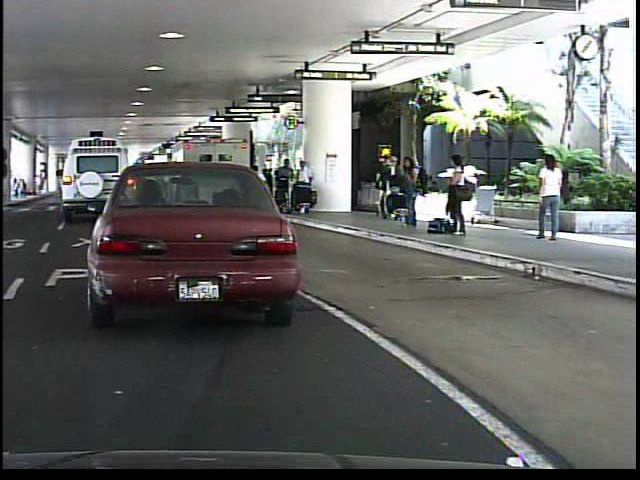person: (530, 154, 568, 243), (440, 151, 468, 238)
